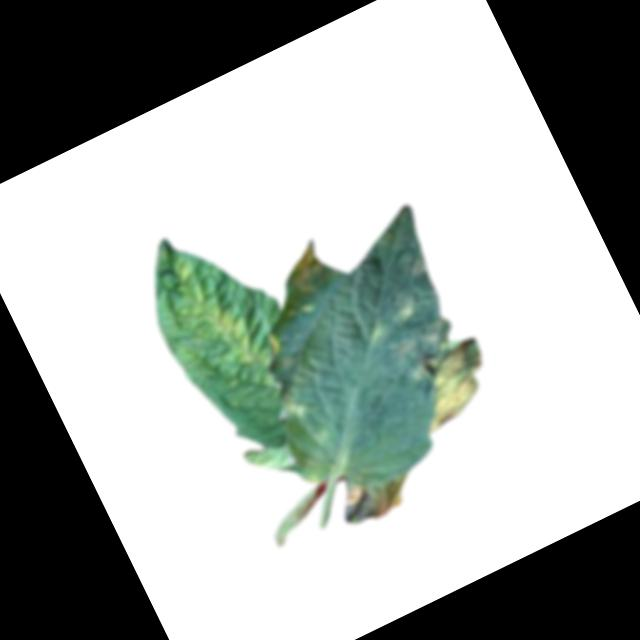Leaf_Mold: (381, 305, 506, 437), (154, 238, 261, 383), (330, 456, 416, 532), (263, 236, 339, 308)
